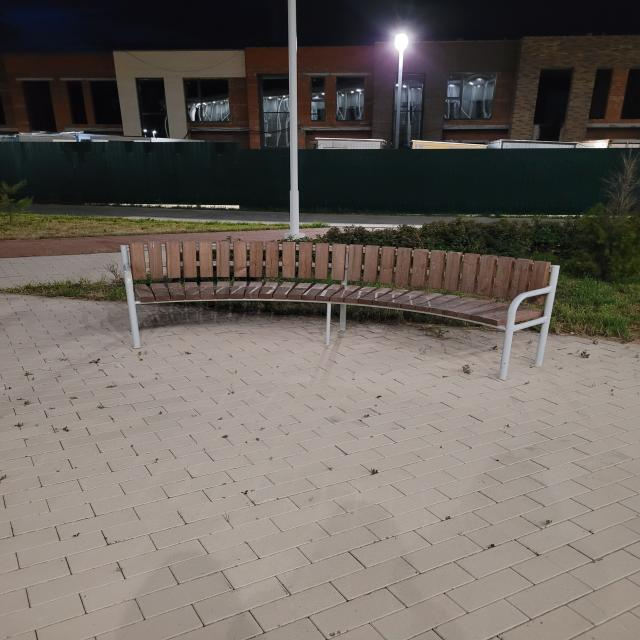Bench: (120, 241, 560, 379)
